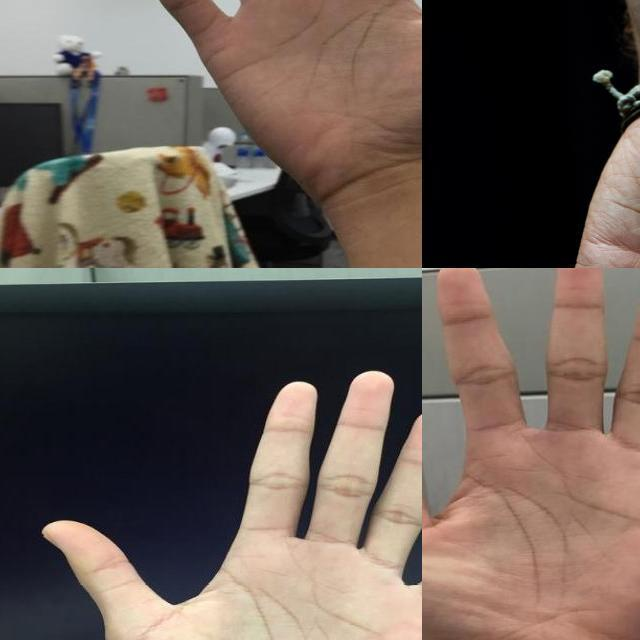no-gloves: (38, 369, 422, 640), (422, 268, 640, 640), (123, 0, 422, 185), (534, 90, 640, 268)
